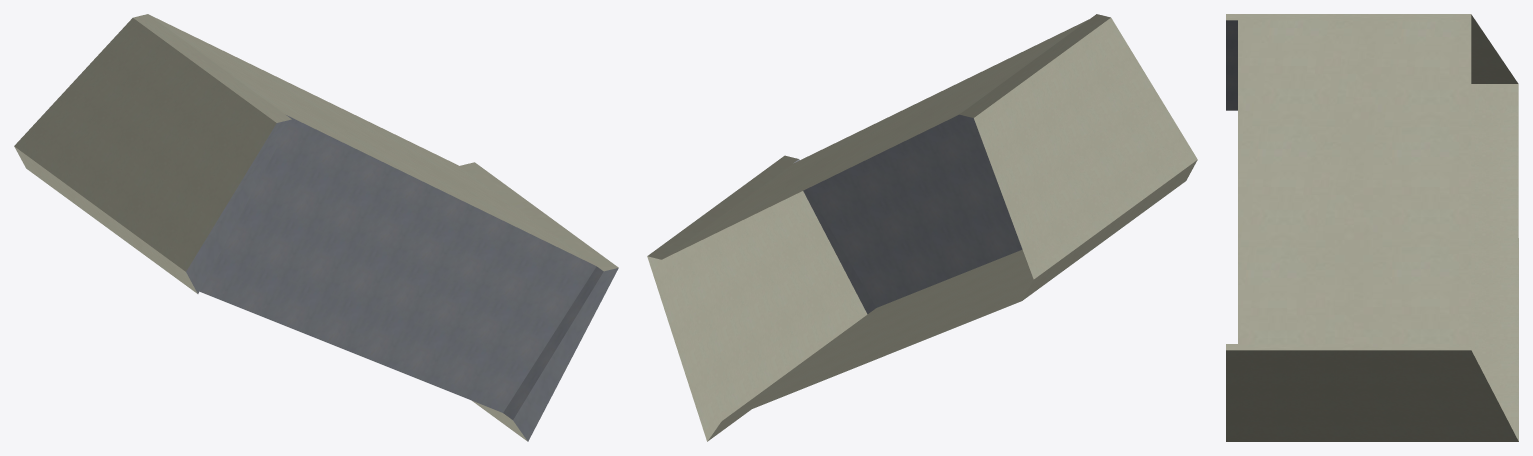
File: Sauna_10_2-origo.obj
The picture shows the model from 3 angles, left to right: view 1: azimuth 30°, elevation 25°; view 2: azimuth 150°, elevation 25°; view 3: azimuth 270°, elevation 25°; orthographic projection. The views are drawn at different scales.
Parts seen in each view (by area): view 1: Sauna_10_2, xxx; view 2: Sauna_10_2, xxx; view 3: xxx, Sauna_10_2.
Part boxes in pixels (<box>): Sauna_10_2: <box>14,18,618,441</box>; xxx: <box>133,14,618,271</box>; Sauna_10_2: <box>647,18,1197,441</box>; xxx: <box>647,14,1110,259</box>; xxx: <box>1226,14,1471,350</box>; Sauna_10_2: <box>1226,14,1518,441</box>.
Bounding box in the file's own units: 8.94 × 7.5 × 6.15.
2 materials, 2 textured.
